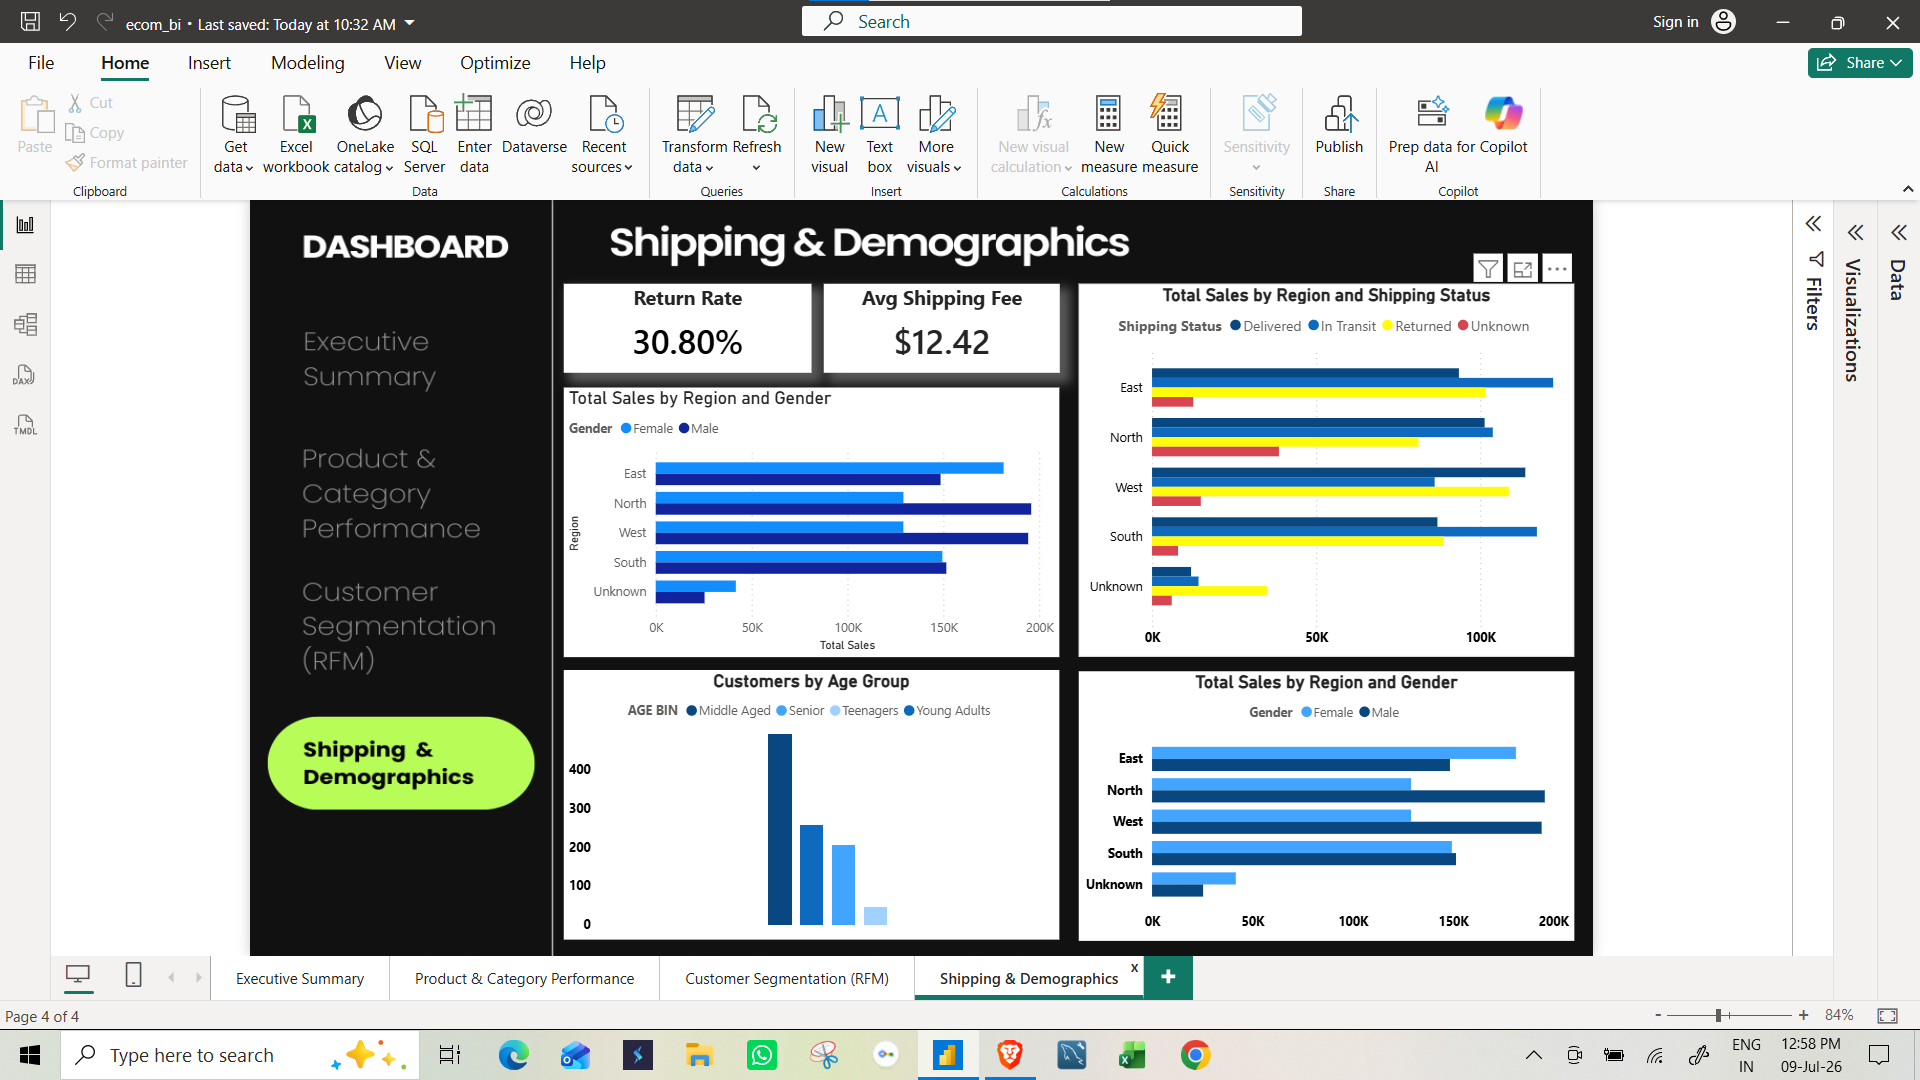

What the dashboard file says about the page in this screenshot:
{"tool":"powerbi","page":{"name":"Shipping  & Demographics","canvas":[1280,720],"ordinal":3},"visuals":[{"type":"actionButton","box":[0,345.8,286.8,134.5],"z":0},{"type":"actionButton","box":[0,225,286.8,120.8],"z":1000},{"type":"actionButton","box":[0,104.3,286.8,120.8],"z":2000},{"type":"clusteredColumnChart","title":"Customers by Age Group","fields":{"Y":["CountNonNull(clean_data.Customer ID)"],"Series":["clean_data.AGE BIN"]},"box":[299.1,447.3,472,256.6],"z":3000},{"type":"clusteredBarChart","fields":{"Y":["clean_data.Total Sales"],"Category":["clean_data.Region"],"Series":["clean_data.Gender"]},"box":[789,448.7,472,256.6],"z":4000},{"type":"clusteredBarChart","fields":{"Y":["clean_data.Total Sales"],"Category":["clean_data.Region"],"Series":["clean_data.Gender"]},"box":[299.1,178.4,472,256.6],"z":5000},{"type":"clusteredBarChart","fields":{"Y":["clean_data.Total Sales"],"Category":["clean_data.Region"],"Series":["clean_data.Shipping Status"]},"box":[789,79.6,472,355.4],"z":6000},{"type":"cardVisual","title":"Return Rate","fields":{"Data":["clean_data.Return Rate"]},"box":[299.1,79.6,236,85.1],"z":6001},{"type":"cardVisual","title":"Avg Shipping Fee","fields":{"Data":["Avg(clean_data.Shipping Fee)"]},"box":[546.1,79.6,225,85.1],"z":6002}]}

Visuals, with their boxes on the page's 1280x720 design canvas (x1, y1, x2, y2). These are canvas units, not pixel positions in the 1920x1080 screenshot, which may show the page scaled, cropped or inside an application window:
actionButton: <box>0,346,287,480</box>
actionButton: <box>0,225,287,346</box>
actionButton: <box>0,104,287,225</box>
"Customers by Age Group" clusteredColumnChart: <box>299,447,771,704</box>
clusteredBarChart - clean_data.Total Sales x clean_data.Region: <box>789,449,1261,705</box>
clusteredBarChart - clean_data.Total Sales x clean_data.Region: <box>299,178,771,435</box>
clusteredBarChart - clean_data.Total Sales x clean_data.Region: <box>789,80,1261,435</box>
"Return Rate" cardVisual: <box>299,80,535,165</box>
"Avg Shipping Fee" cardVisual: <box>546,80,771,165</box>
